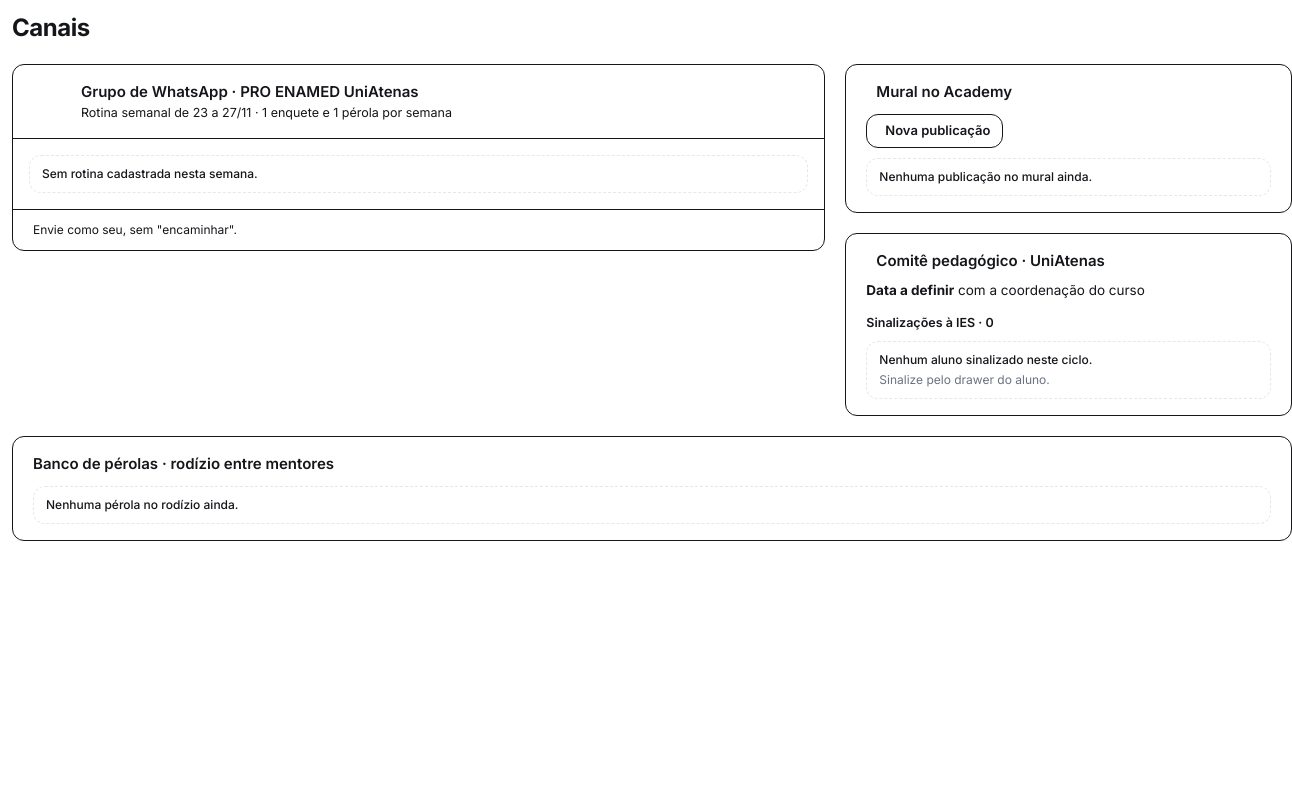
Canais · null nunca vira zero › sem total de alunos o composer publica "para a turma"
What coordinates should you click on to do the following:
click the button "Nova publicação"
I would click on:
 (935, 130)
Its box is [866,114,1003,148].
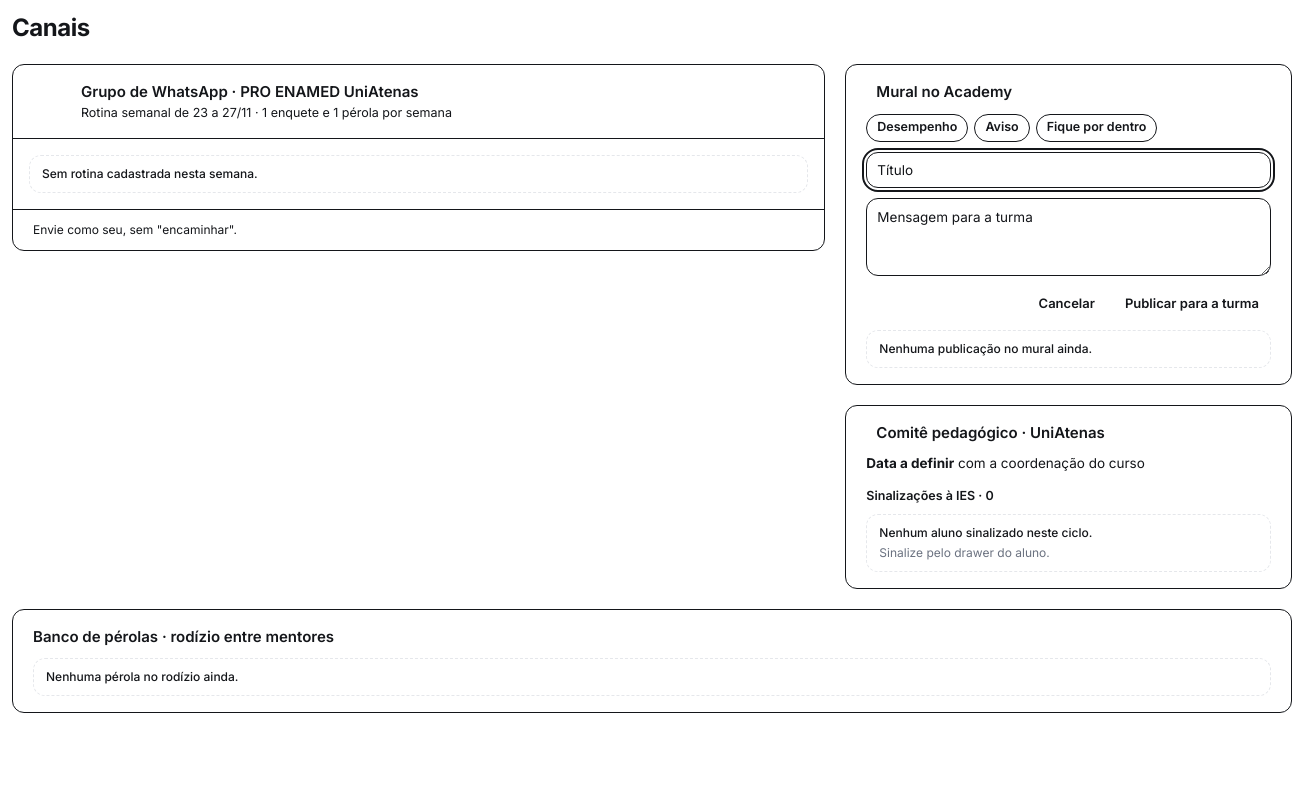
Check: the button "Publicar para a turma" is shown, box [1113,286,1271,320]
